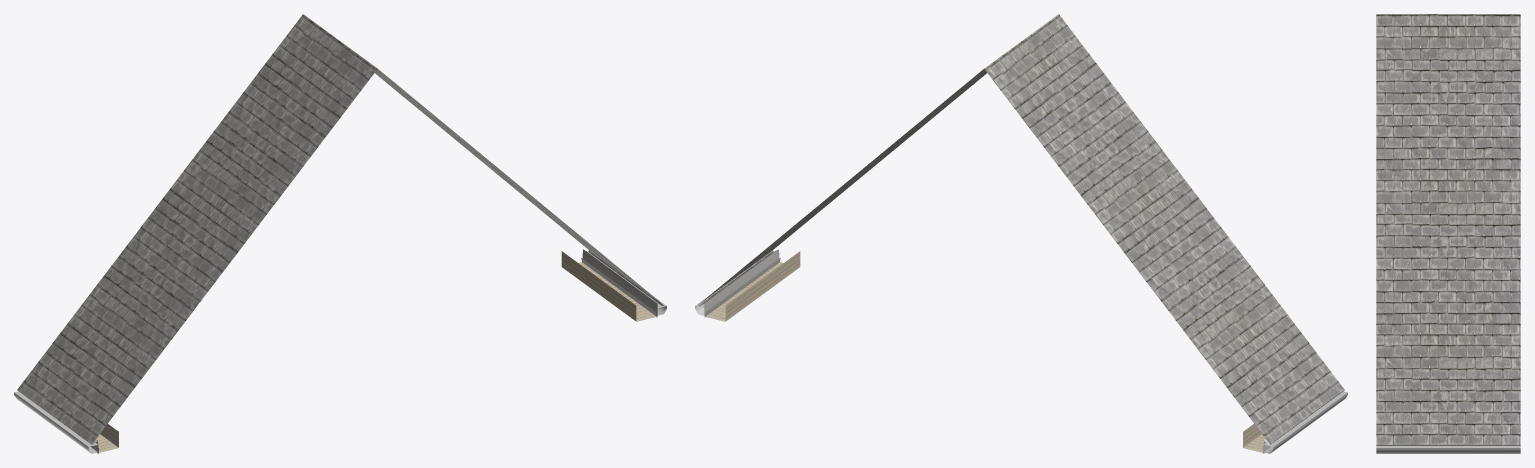
File: Roof_8x.FBX
3 renders of one model, left to right at view 1: azimuth 30°, elevation 25°; view 2: azimuth 150°, elevation 25°; view 3: azimuth 270°, elevation 25°, orthographic. The views are drawn at different scales.
Visible parts, largest first — view 1: Roof_8x; view 2: Roof_8x; view 3: Roof_8x.
Boxes of the visible parts, left/top/right/bottom form: Roof_8x: left=14, top=14, right=666, bottom=453; Roof_8x: left=695, top=14, right=1347, bottom=453; Roof_8x: left=1376, top=14, right=1520, bottom=453.
Size of the model in its own units: 894 by 468 by 200.
